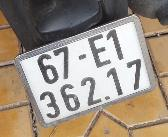1: (102, 26, 130, 66), (102, 64, 128, 99)
2: (78, 73, 106, 108)
3: (36, 88, 65, 124)
6: (34, 51, 63, 89), (56, 80, 84, 114)
7: (51, 43, 76, 82), (123, 56, 147, 92)
E: (85, 31, 115, 72)
